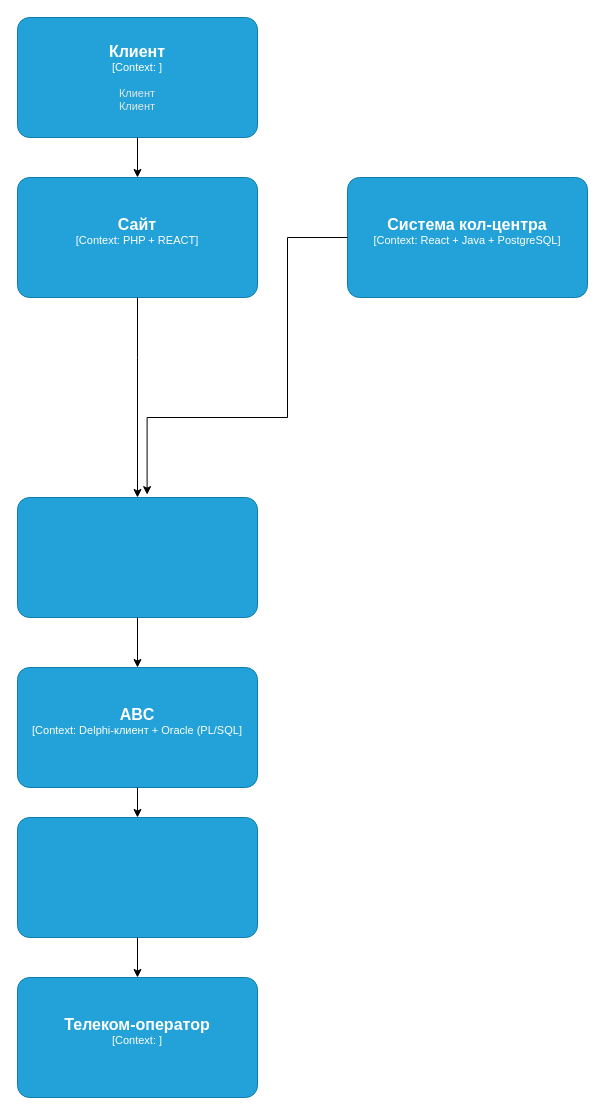
This 605x1115 diagram has some shape labels left out. Here are the shapes that lost their labels. From the top down, the centre of each, then its label:
point 137,557: Интернет-банк [Context: ASP.NET MVC + MS SQ ]
point 137,877: SMS-шлюз [Context: ]
